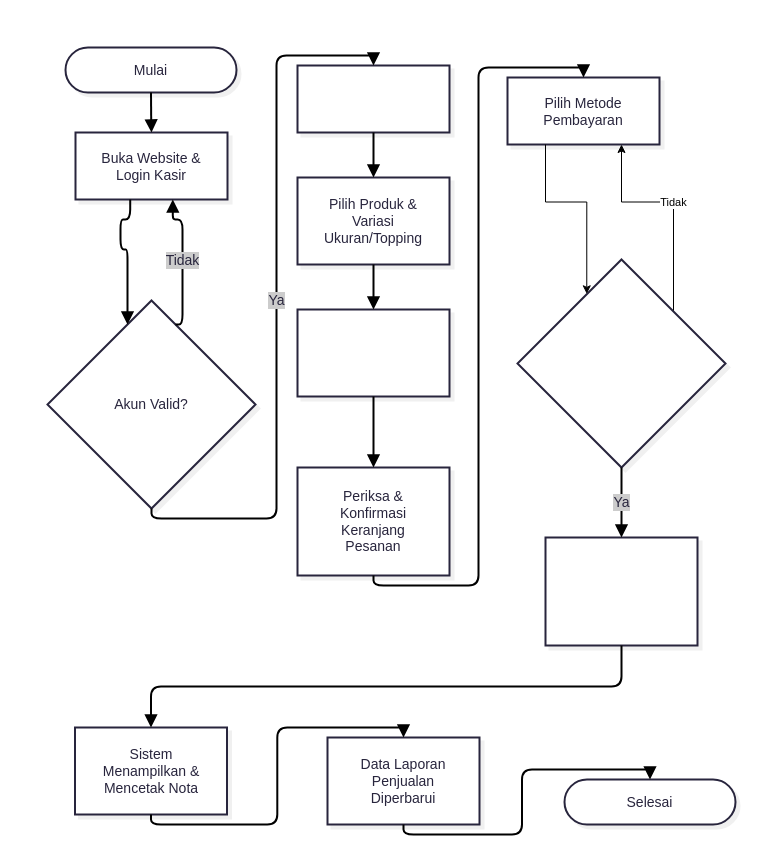
This 757x862 diagram has some shape labels left out. Each missing label, with the centre of its shape:
"Masuk Dashboard POS" goes at point 375,100.
"Masukkan Produk ke Keranjang" goes at point 375,354.
"Pembayaran Berhasil / Uang Sesuai?" goes at point 623,365.
"Sistem Menyimpan Transaksi ke Database" goes at point 623,593.
